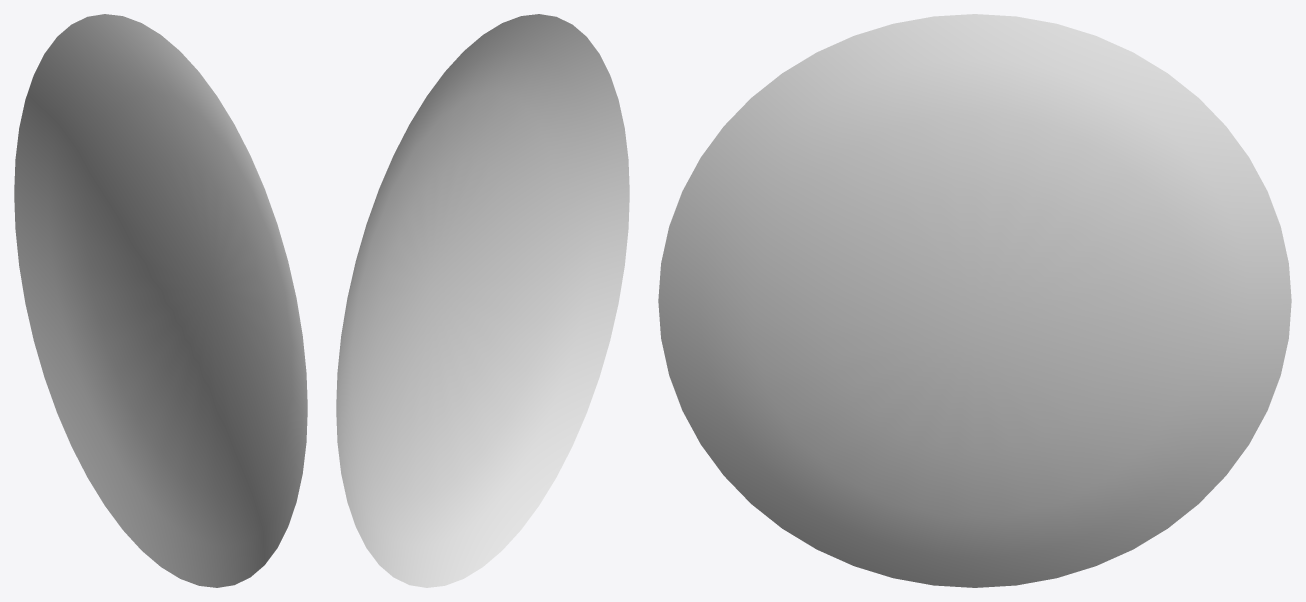
The model's file is MuzzleCone.fbx.
3 views of the same model, side by side, from view 1: azimuth 30°, elevation 25°; view 2: azimuth 150°, elevation 25°; view 3: azimuth 270°, elevation 25° (orthographic). The views are drawn at different scales.
Parts seen in each view (by area): view 1: polySurface6; view 2: polySurface6; view 3: polySurface6.
Part boxes in pixels (x1,y1,x2,y2): polySurface6: (14, 14, 307, 587); polySurface6: (336, 14, 629, 587); polySurface6: (658, 14, 1291, 587).
Size of the model in its own units: 20.81 by 203 by 203.
Materials: 1 (1 with a texture image).
